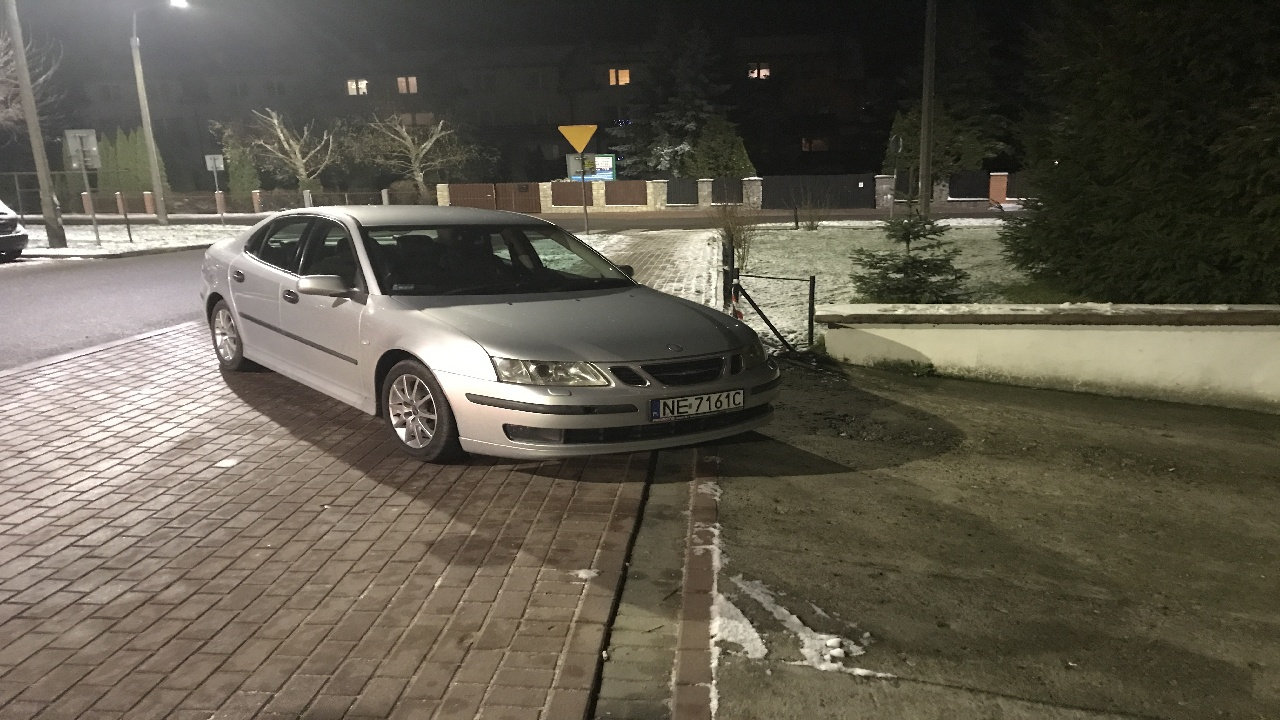A7: (557, 124, 599, 154)
